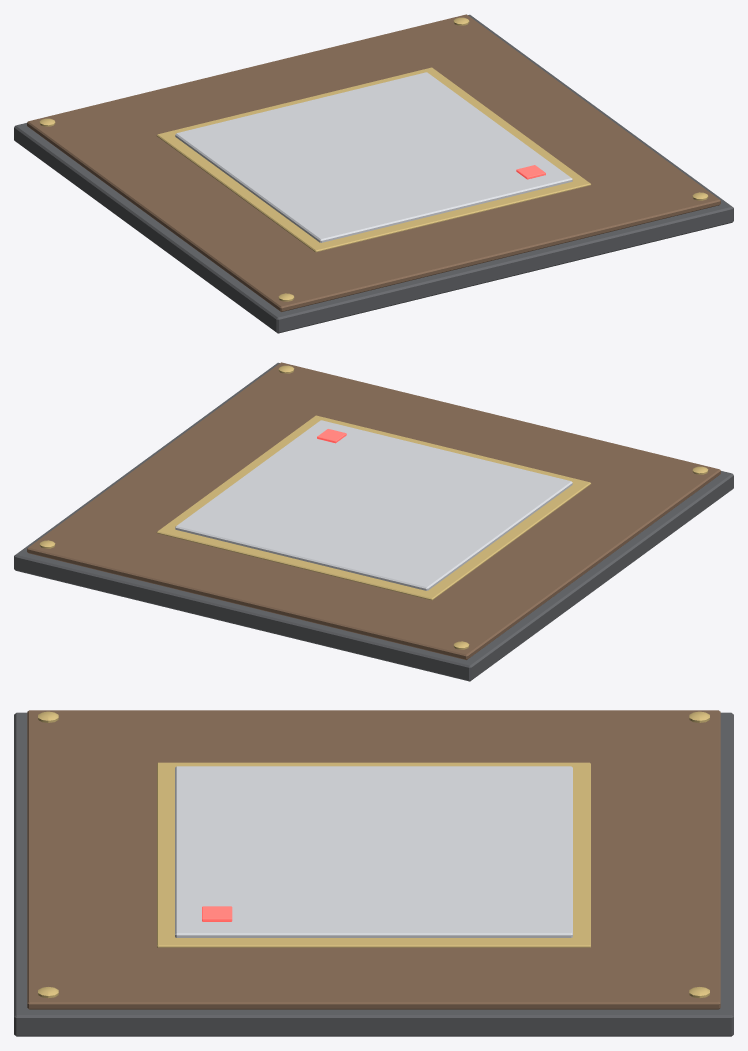
The model's file is escape-room-and-puzzle-venue-pressure-plate-floor-tile-e80ee7e4__35775.glb.
3 renders of one model, top to bottom at view 1: azimuth 30°, elevation 25°; view 2: azimuth 150°, elevation 25°; view 3: azimuth 270°, elevation 25°, orthographic. The views are drawn at different scales.
Parts seen in each view (by area): view 1: pressure-plate-floor-tile; view 2: pressure-plate-floor-tile; view 3: pressure-plate-floor-tile.
Boxes of the visible parts, left/top/right/bottom form: pressure-plate-floor-tile: left=14, top=14, right=733, bottom=333; pressure-plate-floor-tile: left=14, top=362, right=733, bottom=681; pressure-plate-floor-tile: left=14, top=710, right=733, bottom=1036.
Bounding box in the file's own units: 1.19 × 0.072 × 1.19.
